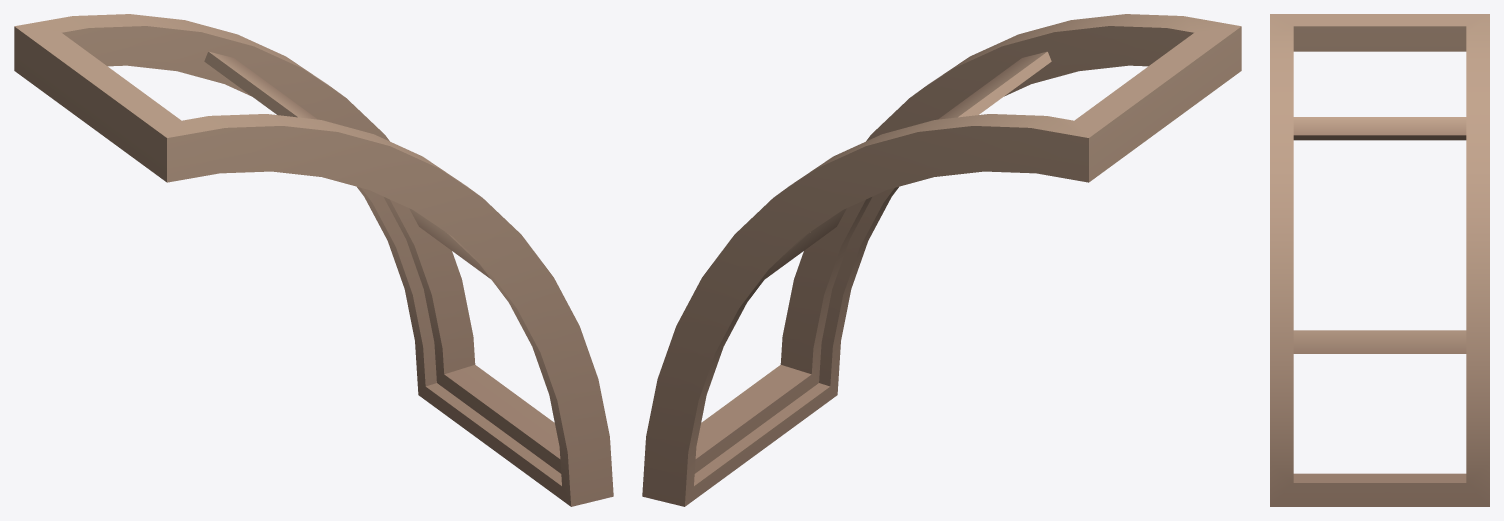
Rendered from roof-curved-window-double.glb.
The picture shows the model from 3 angles, left to right: view 1: azimuth 30°, elevation 25°; view 2: azimuth 150°, elevation 25°; view 3: azimuth 270°, elevation 25°; orthographic projection. The views are drawn at different scales.
Parts seen in each view (by area): view 1: roof-curved-window-double; view 2: roof-curved-window-double; view 3: roof-curved-window-double.
Part boxes in pixels (x1,y1,x2,y2): roof-curved-window-double: (14, 14, 613, 506); roof-curved-window-double: (642, 14, 1241, 506); roof-curved-window-double: (1270, 14, 1489, 506).
Bounding box in the file's own units: 1.58 × 1.57 × 0.9333.
